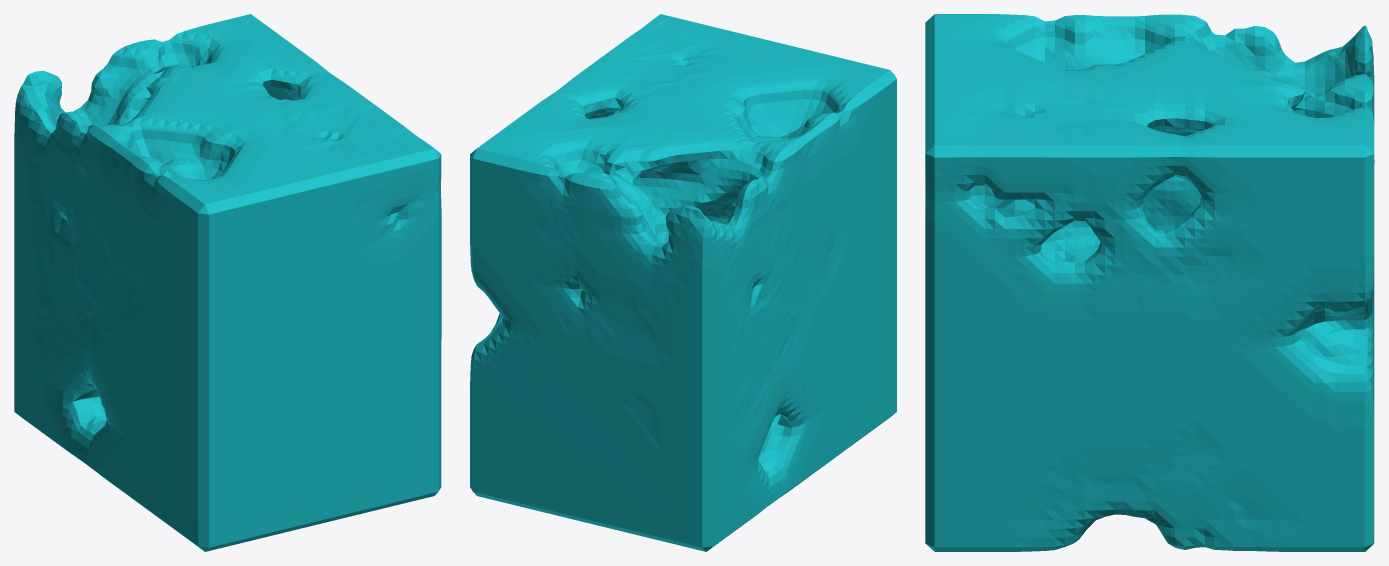
3 renders of one model, left to right at view 1: azimuth 30°, elevation 25°; view 2: azimuth 150°, elevation 25°; view 3: azimuth 270°, elevation 25°, orthographic. The views are drawn at different scales.
Visible parts, largest first — view 1: Liquid_Domain; view 2: Liquid_Domain; view 3: Liquid_Domain.
Boxes of the visible parts, x1,y1,x2,y2 form: Liquid_Domain: [14, 14, 441, 551]; Liquid_Domain: [470, 14, 896, 551]; Liquid_Domain: [925, 14, 1374, 551].
Size of the model in its own units: 79.1 by 108 by 108.
